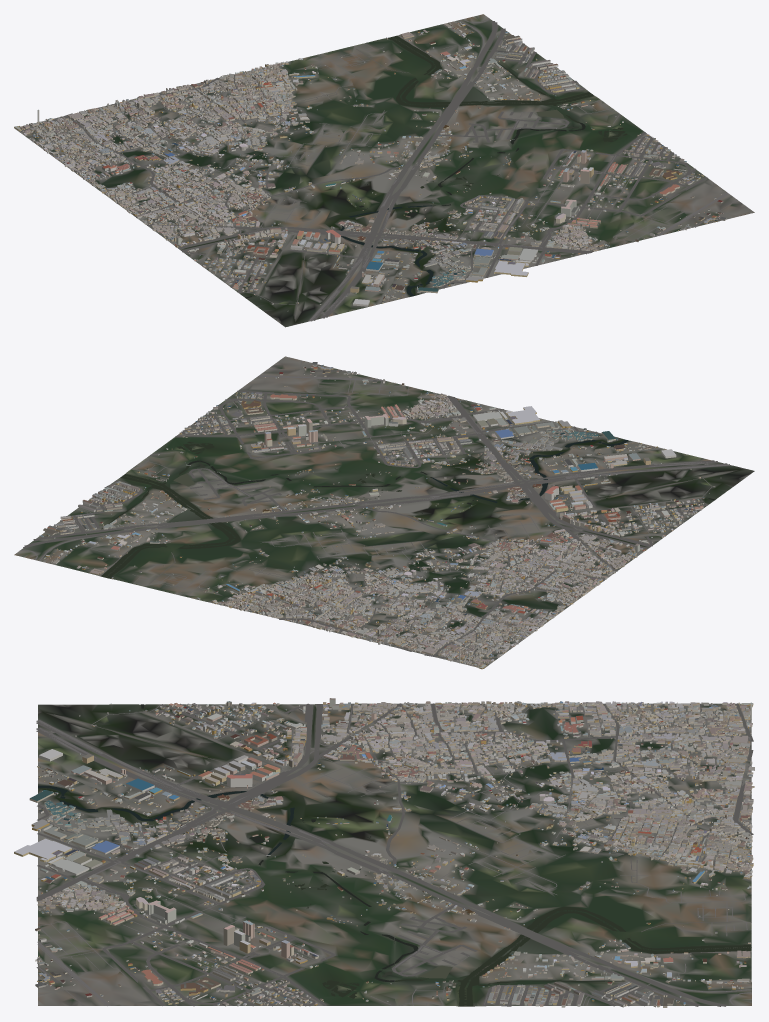
The picture shows the model from 3 angles, top to bottom: view 1: azimuth 30°, elevation 25°; view 2: azimuth 150°, elevation 25°; view 3: azimuth 270°, elevation 25°; orthographic projection. The views are drawn at different scales.
Visible parts, largest first — view 1: ground, buildings, roads, water; view 2: ground, buildings, roads, water; view 3: ground, buildings, roads, water.
Part boxes in pixels (x1=…): ground: x1=14, y1=14, x2=754, y2=327; buildings: x1=14, y1=22, x2=726, y2=311; roads: x1=19, y1=18, x2=738, y2=321; water: x1=245, y1=35, x2=627, y2=298; ground: x1=14, y1=356, x2=754, y2=668; buildings: x1=39, y1=362, x2=721, y2=669; roads: x1=20, y1=360, x2=732, y2=665; water: x1=101, y1=439, x2=715, y2=578; ground: x1=38, y1=703, x2=751, y2=1006; buildings: x1=14, y1=698, x2=754, y2=1007; roads: x1=36, y1=703, x2=753, y2=1006; water: x1=38, y1=704, x2=751, y2=1006.
Bounding box in the file's own units: 2824 × 79.51 × 2908.
